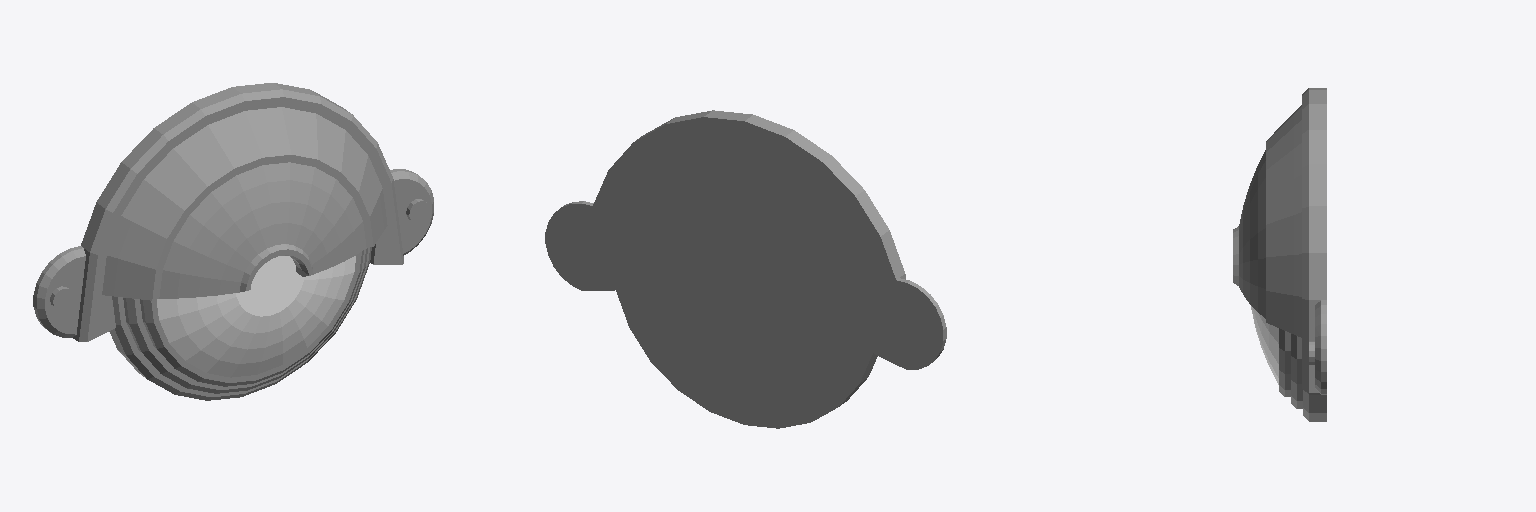
File: deco-loungesconce01a.obj
The picture shows the model from 3 angles: view 1: azimuth 30°, elevation 25°; view 2: azimuth 150°, elevation 25°; view 3: azimuth 270°, elevation 25°; orthographic projection.
Visible parts, largest first — view 1: gold_ID5, light_ID26; view 2: gold_ID5; view 3: gold_ID5, light_ID26.
Part boxes in pixels (x1,y1,x2,y2): gold_ID5: (33, 83, 433, 400); light_ID26: (157, 256, 355, 377); gold_ID5: (545, 110, 946, 428); gold_ID5: (1233, 88, 1326, 421); light_ID26: (1251, 306, 1278, 384).
Size of the model in its own units: 75.68 by 55.2 by 15.51.